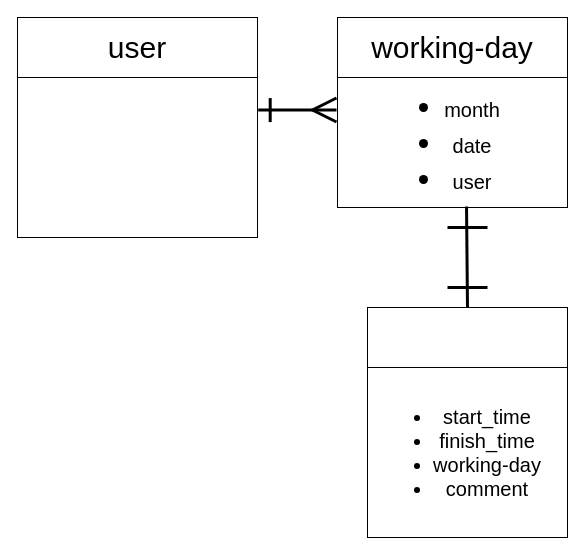
This 585x555 diagram has some shape labels left out. Here are the shapes that lost their labels. From the top down, the centre of each, then its label:
At point (137, 157): "name number email encrypted_password".
At point (467, 337): "working-time".
